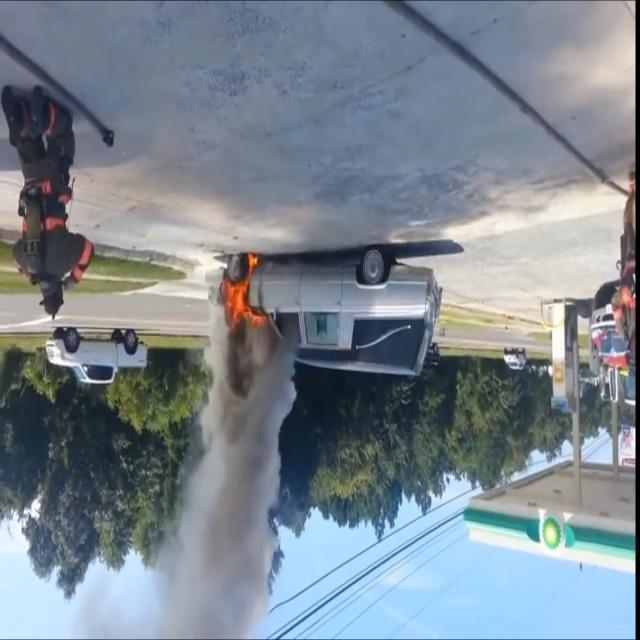fire: (220, 252, 272, 336)
